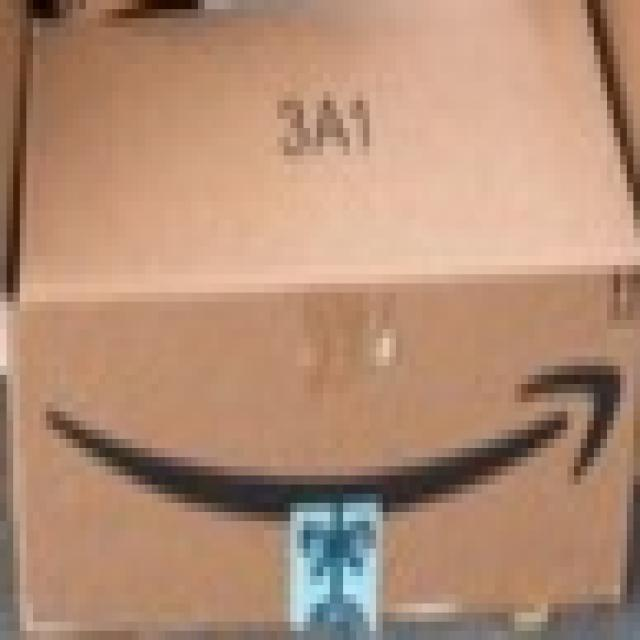cardboard: (25, 1, 640, 600)
